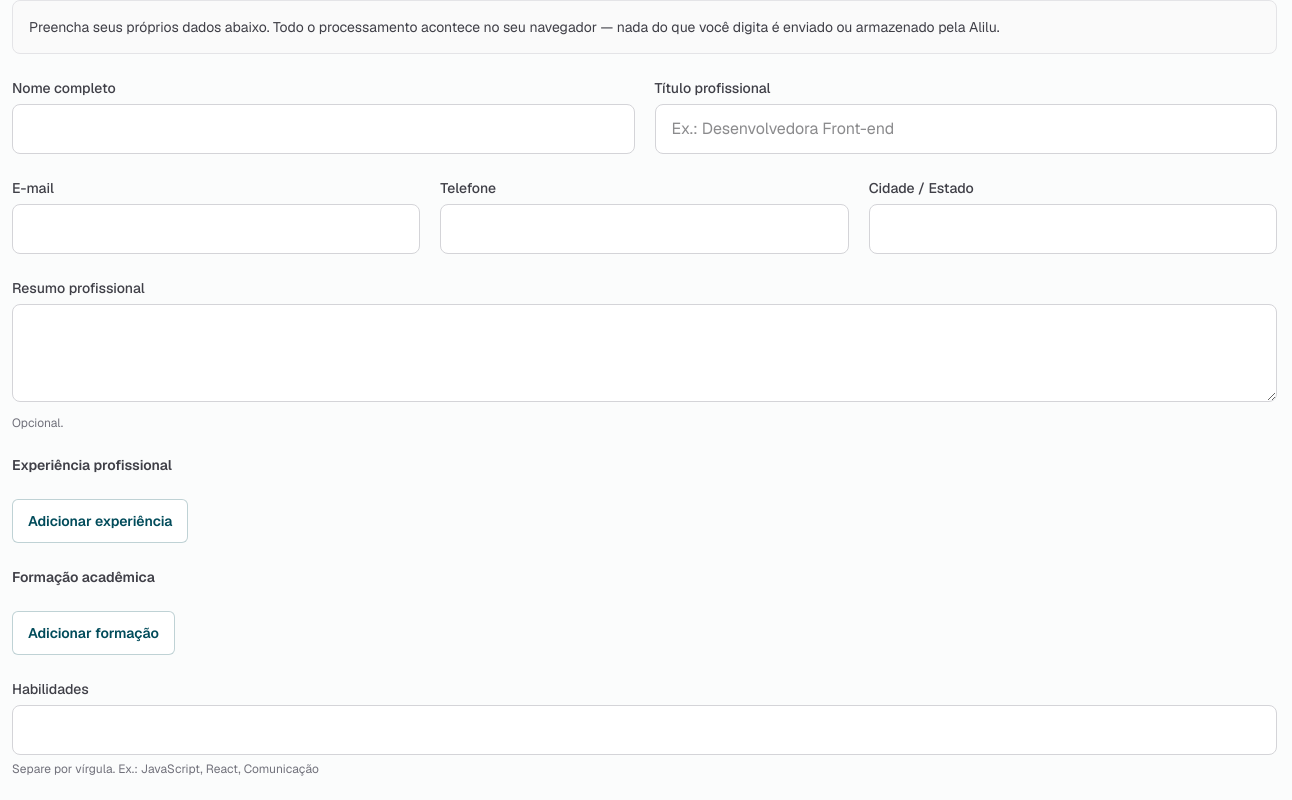
Test: ResumeBuilderTool › mostra a prévia do currículo com os dados preenchidos
The width and height of the screenshot is (1292, 800).
Step 1. Type "Maria Silva" into the field labelled "Nome completo" → (323, 129), box left=12, top=104, right=634, bottom=154
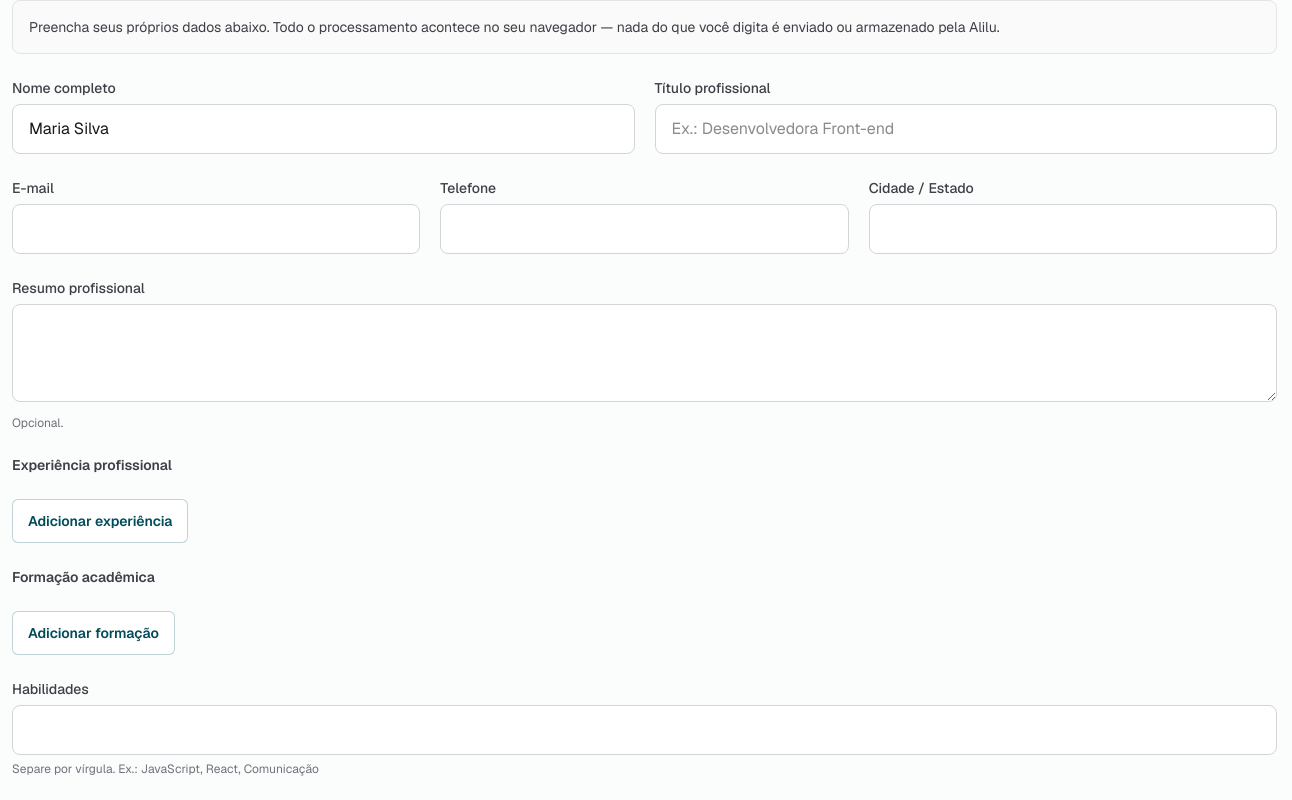
Step 2. Type "Desenvolvedora Front-end" into the field labelled "Título profissional" → (966, 129), box left=654, top=104, right=1277, bottom=154
(page scrolled)
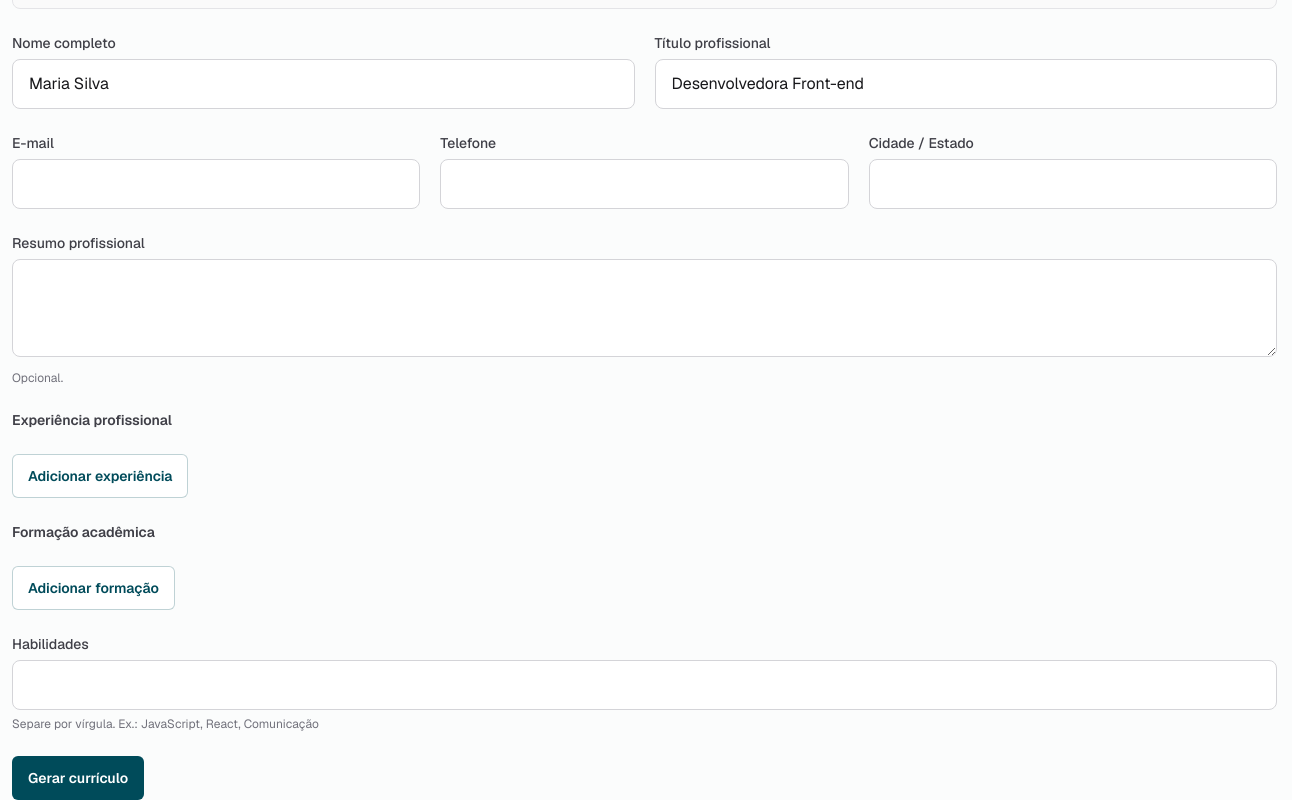
Step 3. Click the button "Gerar currículo" → (78, 778), box left=12, top=756, right=144, bottom=799
(page scrolled)
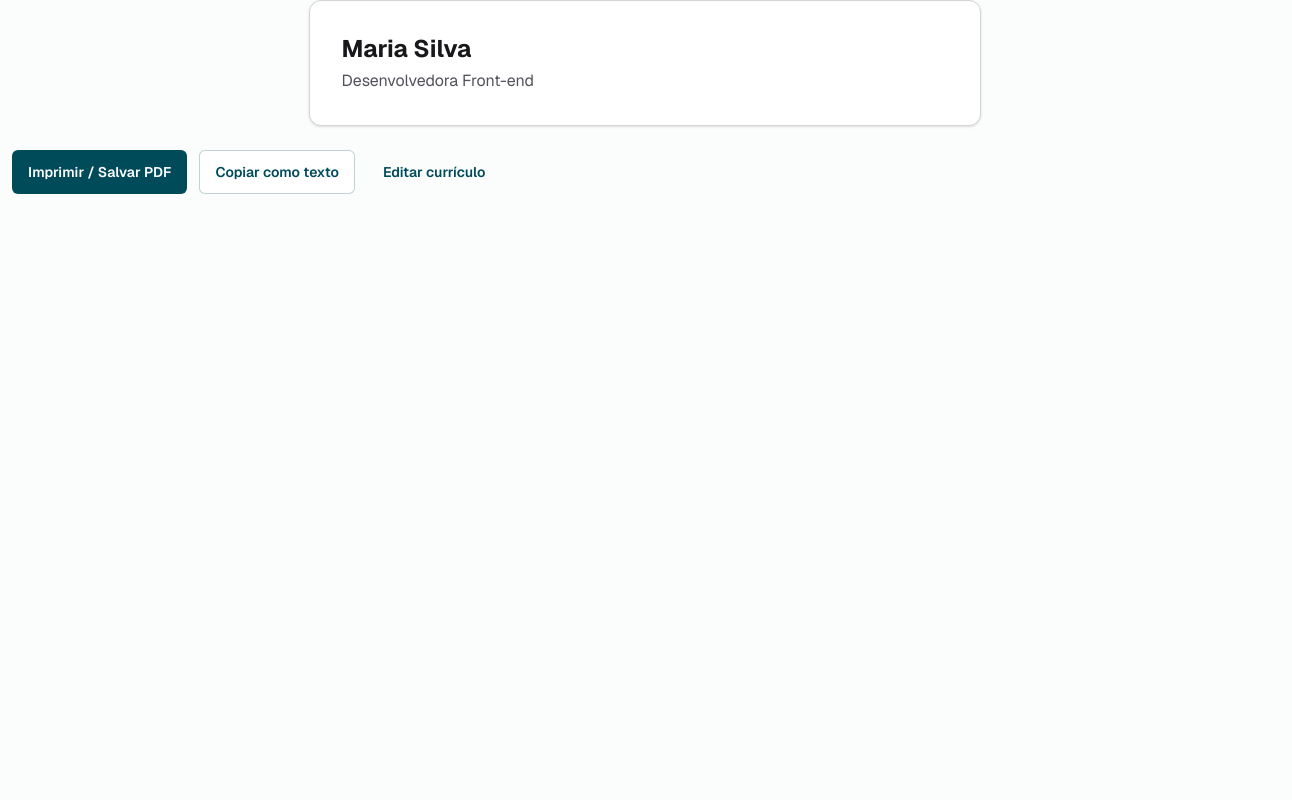
Expected: the heading "Maria Silva" is shown, left=342, top=33, right=471, bottom=64
Expected: the text "Desenvolvedora Front-end" is shown, left=342, top=70, right=534, bottom=91
